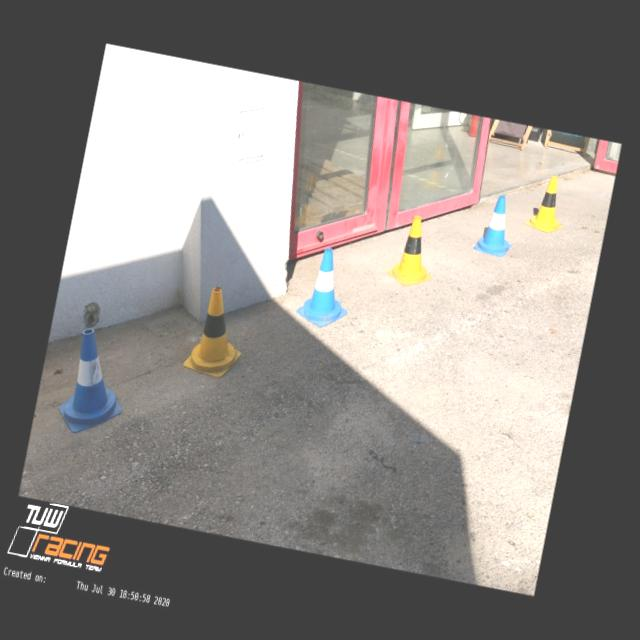blue_cone: (55, 326, 137, 441), (294, 244, 358, 331), (473, 192, 520, 258)
yellow_cone: (182, 283, 252, 381), (385, 212, 444, 290), (524, 172, 572, 235)
